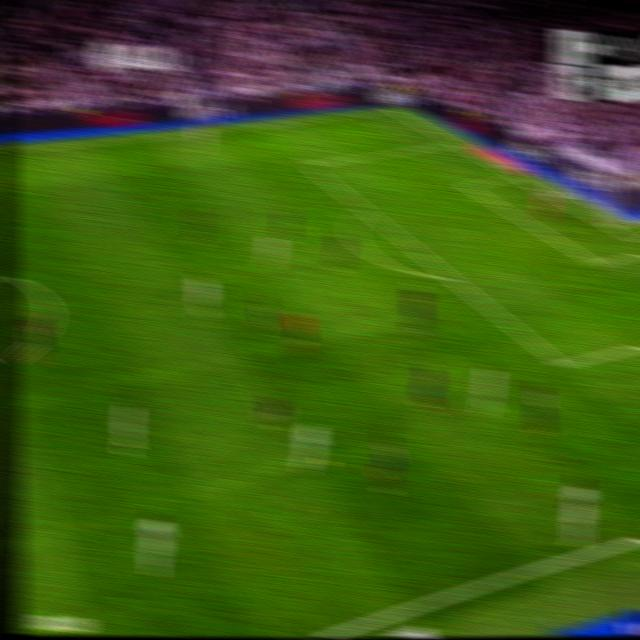bigarea_bottom_inner: (551, 351, 571, 376)
bigarea_top_inner: (300, 156, 317, 171)
bigarea_top_outter: (444, 135, 462, 148)
bottom_arc_area_intersection: (440, 266, 460, 286)
corner: (384, 105, 401, 113)
smallarea_bottom_inner: (587, 253, 605, 272)
smallarea_top_inner: (461, 180, 475, 191)
top_arc_area_intersection: (355, 199, 373, 216)
